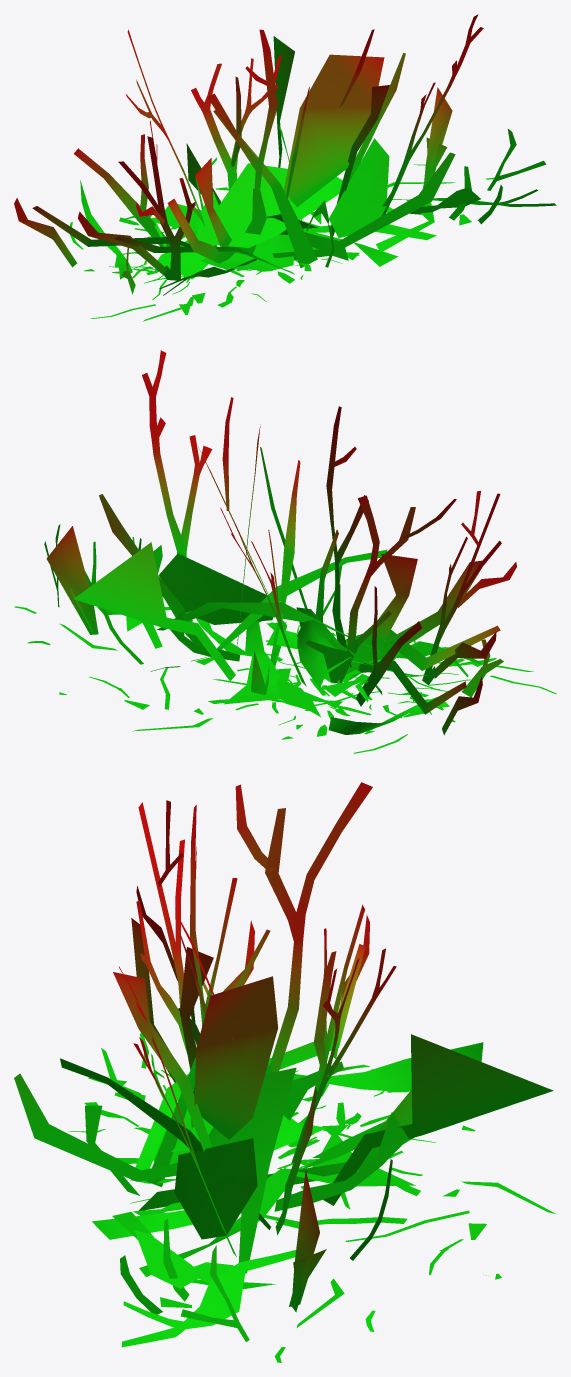
The model's file is Dead Shrubs_LOD2_Var7_vdknbbuha.fbx.
3 renders of one model, top to bottom at view 1: azimuth 30°, elevation 25°; view 2: azimuth 150°, elevation 25°; view 3: azimuth 270°, elevation 25°, orthographic. The views are drawn at different scales.
Parts seen in each view (by area): view 1: _11hx_Var7_LOD2; view 2: _11hx_Var7_LOD2; view 3: _11hx_Var7_LOD2.
Boxes of the visible parts, x1=… form: _11hx_Var7_LOD2: x1=14, y1=14, x2=556, y2=321; _11hx_Var7_LOD2: x1=14, y1=350, x2=556, y2=753; _11hx_Var7_LOD2: x1=14, y1=782, x2=555, y2=1362.
Bounding box in the file's own units: 101 × 50.27 × 66.81.
